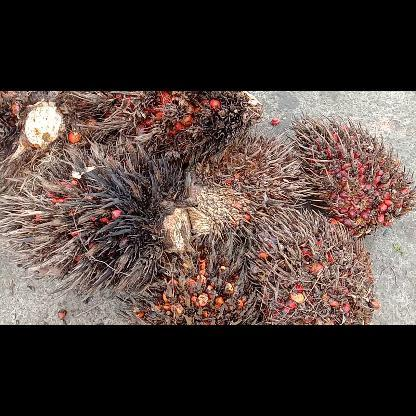Terlalu masak: (0, 138, 212, 300), (287, 112, 415, 238), (246, 206, 378, 324), (185, 125, 309, 241), (76, 91, 262, 163), (117, 230, 257, 324), (0, 91, 88, 175)
